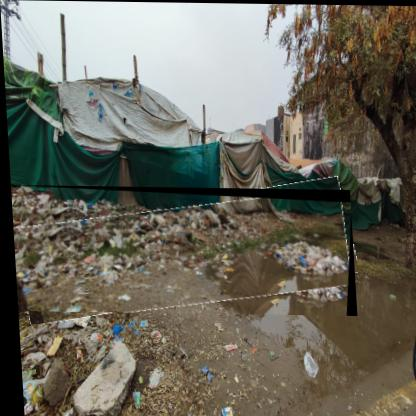Garbage: (10, 186, 356, 317)
